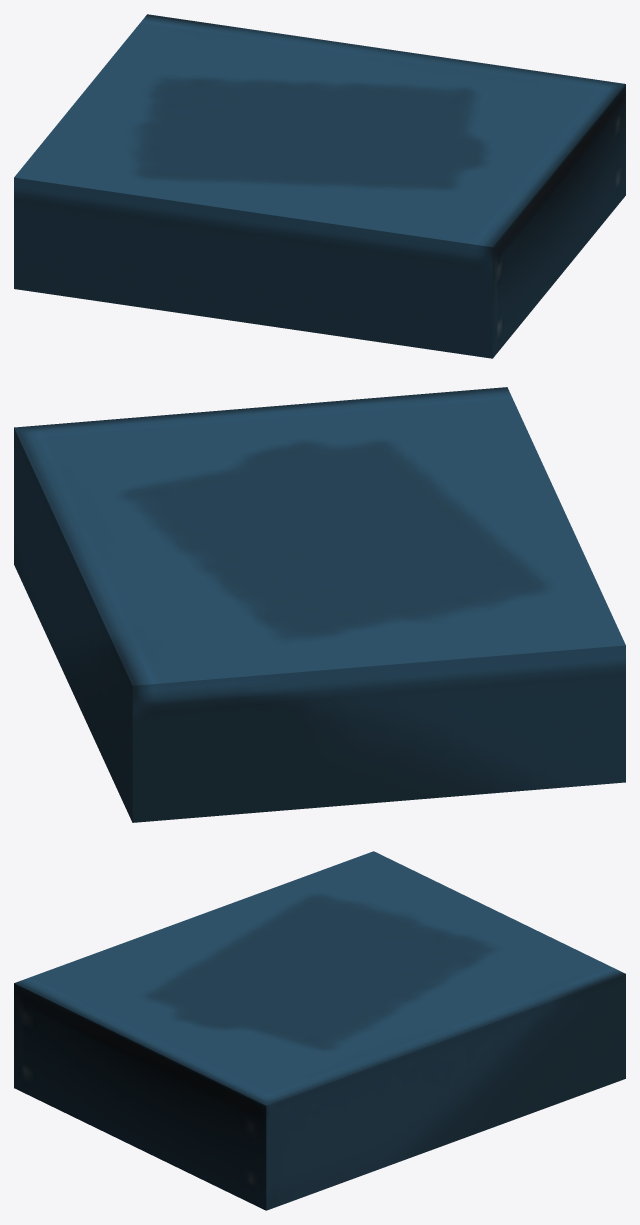
Rendered from Tx_prop_cpu_2.fbx.
3 renders of one model, top to bottom at view 1: azimuth 30°, elevation 25°; view 2: azimuth 150°, elevation 25°; view 3: azimuth 270°, elevation 25°, orthographic. The views are drawn at different scales.
Parts seen in each view (by area): view 1: Tx_prop_cpu_9; view 2: Tx_prop_cpu_9; view 3: Tx_prop_cpu_9.
Boxes of the visible parts, box(x1,y1,x2,y2) form: Tx_prop_cpu_9: box(14, 14, 625, 358); Tx_prop_cpu_9: box(14, 387, 625, 822); Tx_prop_cpu_9: box(14, 851, 625, 1210).
Bounding box in the file's own units: 3.76 × 0.7211 × 3.81.
Materials: 1 (1 with a texture image).
